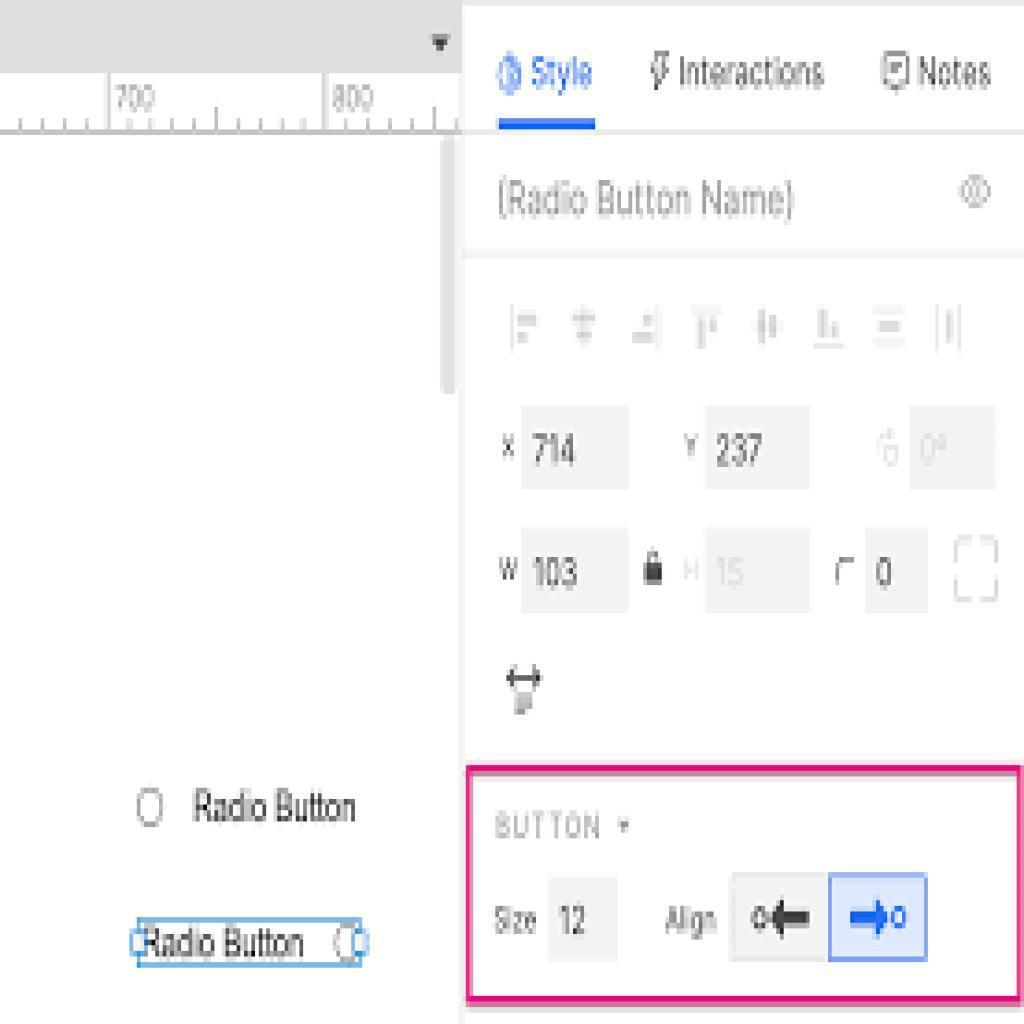dropdown: (1, 1, 464, 72)
icon: (952, 165, 1008, 215), (641, 42, 674, 107), (877, 52, 917, 103)
input: (521, 526, 631, 614), (520, 405, 631, 490), (708, 405, 813, 493), (711, 527, 812, 613), (912, 403, 999, 491), (549, 879, 619, 962), (865, 529, 929, 616)
radio: (136, 783, 167, 832)
